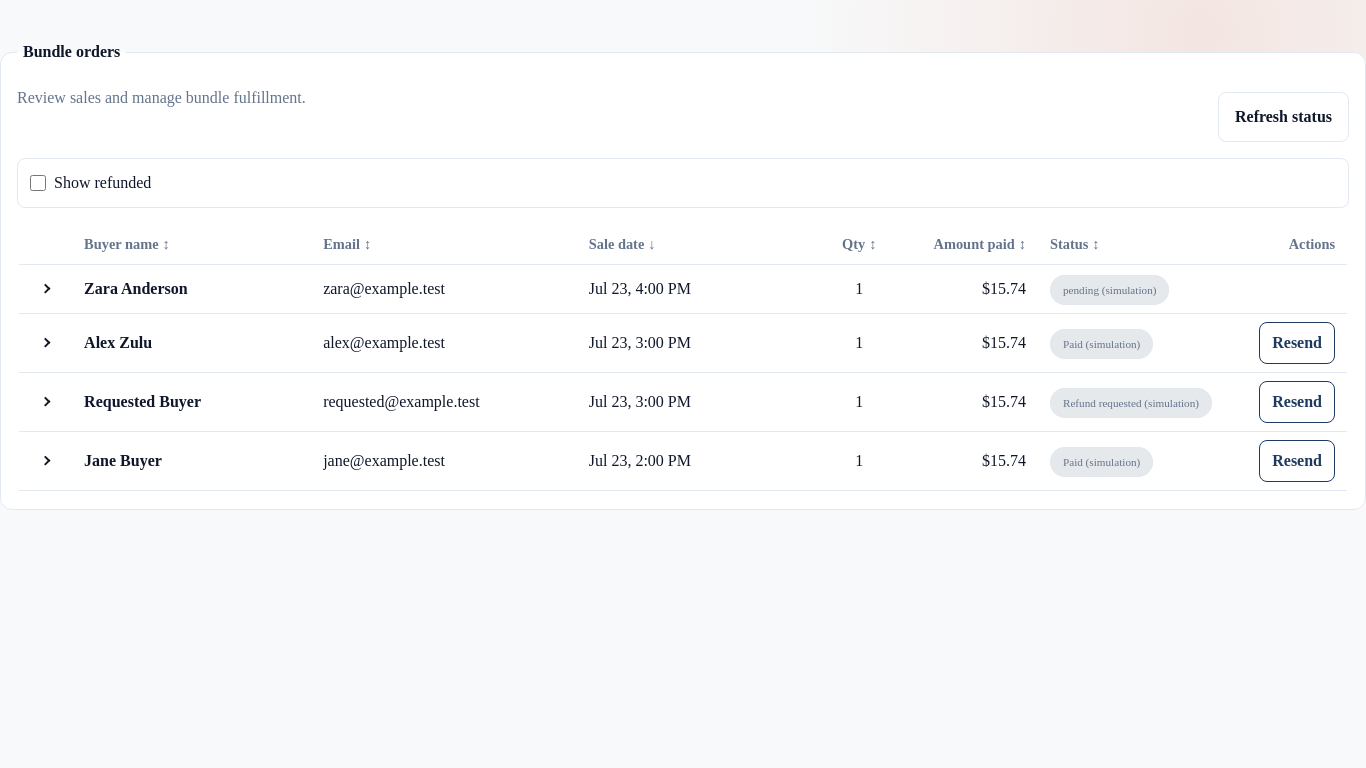
Test case: BundleOrdersPanel › hides refunded orders by default and can show them without hiding refund requests
expect the table with class "data-table" is shown: met, box [19,226,1347,491]
expect the text "Refunded Buyer" is not shown: met
Click the checkbox labelled "Show refunded": (38, 183) [30,175,46,191]
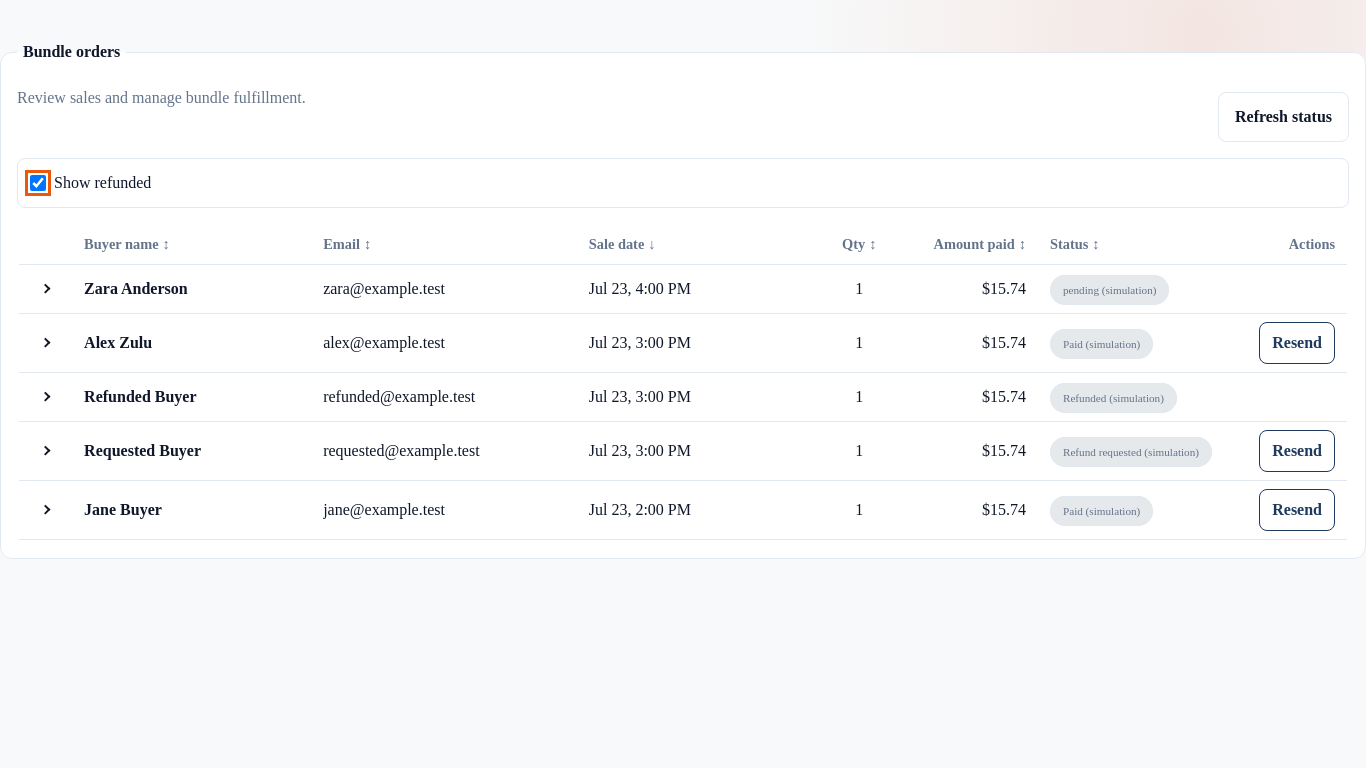
expect the text "Refunded Buyer" is shown: met, box [84,385,197,409]
expect the text "Refunded (simulation)" is shown: met, box [1050,383,1177,413]
